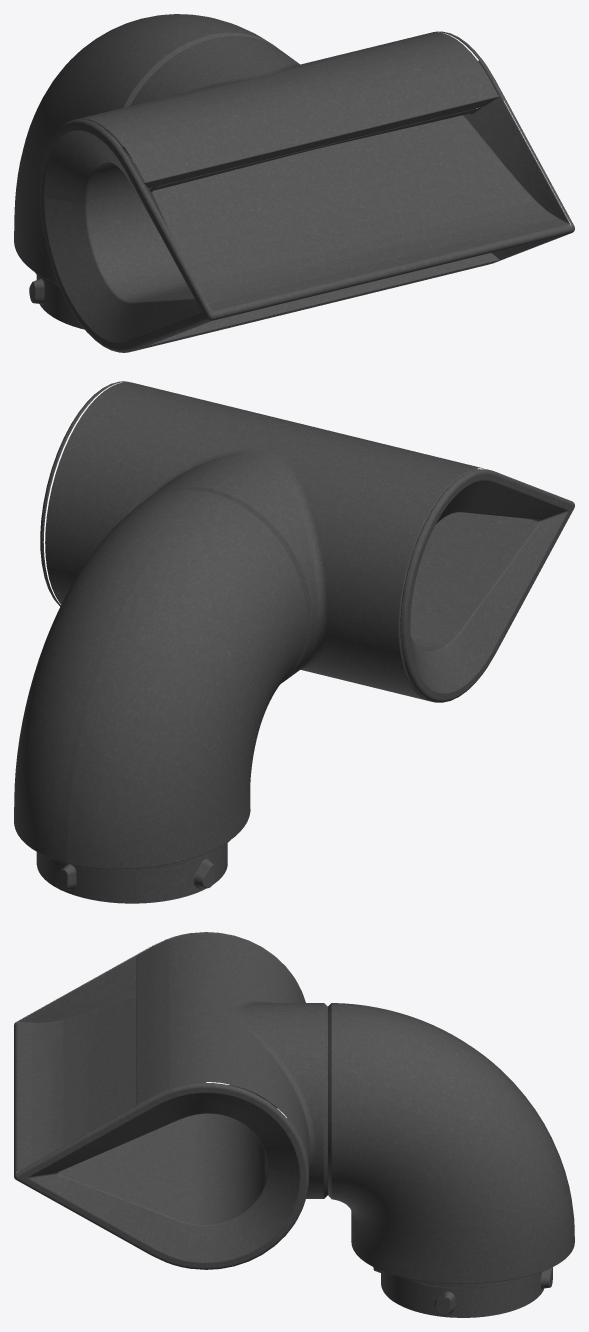
Rendered from airwrap_flyaway_tool_01.glb.
3 renders of one model, top to bottom at view 1: azimuth 30°, elevation 25°; view 2: azimuth 150°, elevation 25°; view 3: azimuth 270°, elevation 25°, orthographic. The views are drawn at different scales.
Visible parts, largest first — view 1: aw_flyaway_main_body; view 2: aw_flyaway_main_body; view 3: aw_flyaway_main_body.
Boxes of the visible parts, x1,y1,x2,y2 form: aw_flyaway_main_body: (14,14,574,352); aw_flyaway_main_body: (14,381,574,903); aw_flyaway_main_body: (14,932,574,1317).
Bounding box in the file's own units: 0.0775 × 0.0647 × 0.1194.
1 material, 1 textured.
